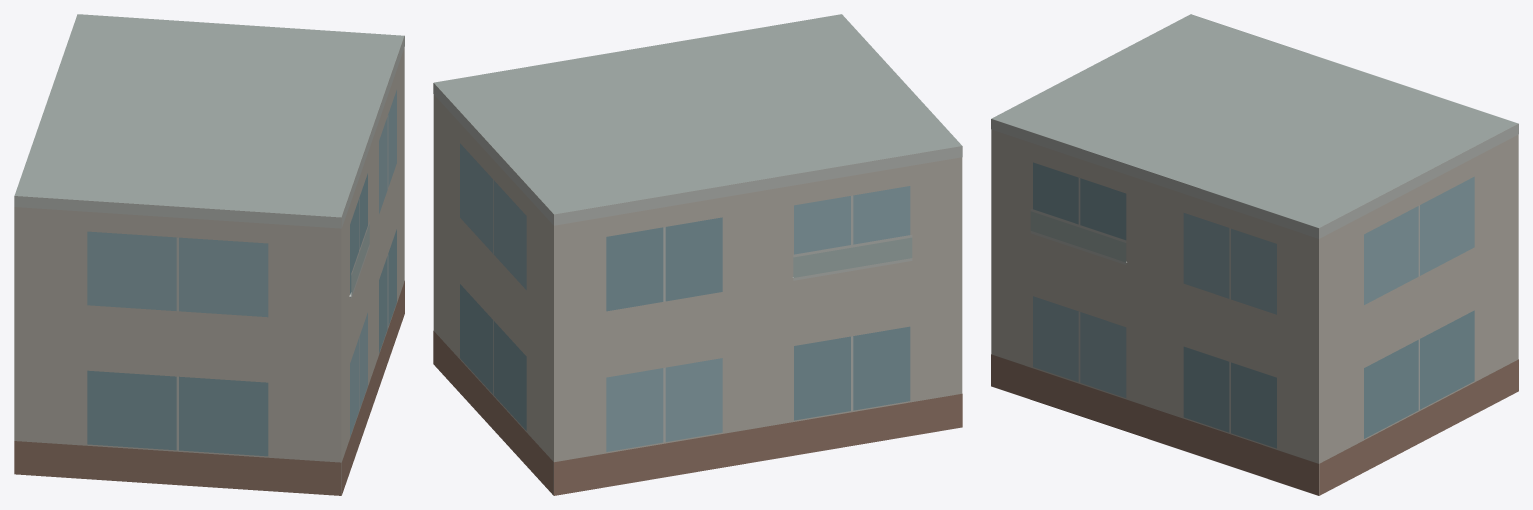
File: survey-upis-32722571.glb
3 views of the same model, side by side, from view 1: azimuth 30°, elevation 25°; view 2: azimuth 150°, elevation 25°; view 3: azimuth 270°, elevation 25° (orthographic). The views are drawn at different scales.
Visible parts, largest first — view 1: survey-upis-32722571.tmp; view 2: survey-upis-32722571.tmp; view 3: survey-upis-32722571.tmp.
Part boxes in pixels (bbox=[...]): survey-upis-32722571.tmp: bbox=[14, 14, 404, 495]; survey-upis-32722571.tmp: bbox=[433, 14, 962, 495]; survey-upis-32722571.tmp: bbox=[991, 14, 1518, 495].
Size of the model in its own units: 10.48 by 6.1 by 10.91.
